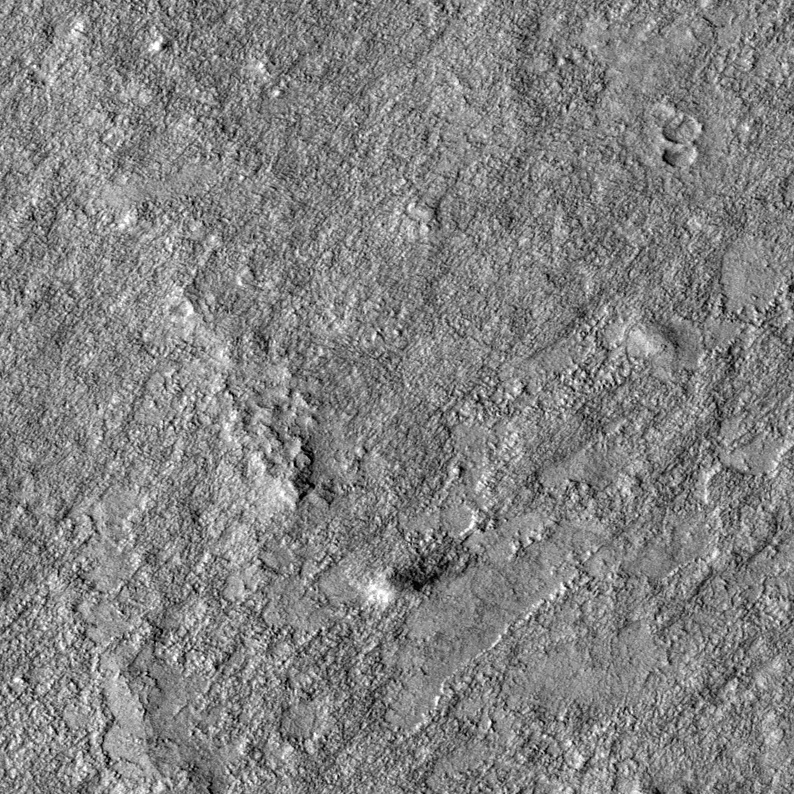dust_devil: (364, 551, 452, 610)
